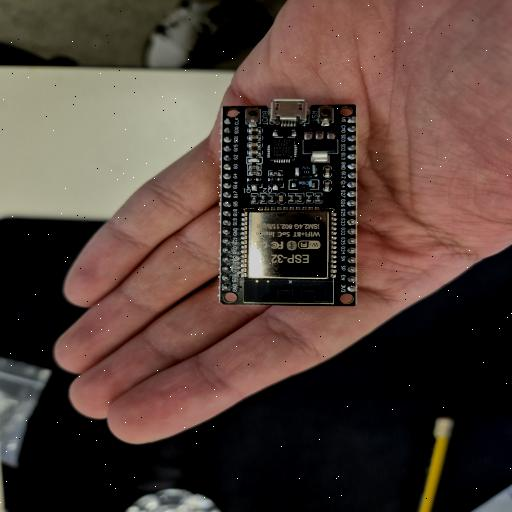esp32-dev: (220, 106, 356, 306)
